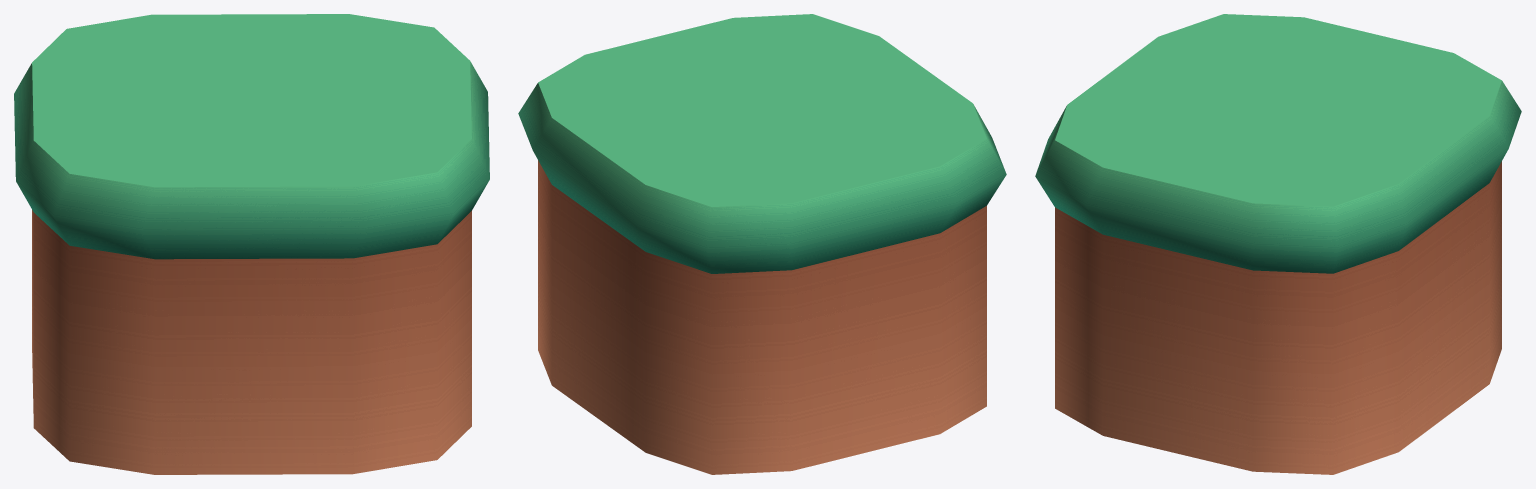
Rendered from block-grass.004_lev2.glb.
The picture shows the model from 3 angles, left to right: view 1: azimuth 30°, elevation 25°; view 2: azimuth 150°, elevation 25°; view 3: azimuth 270°, elevation 25°; orthographic projection. The views are drawn at different scales.
Parts seen in each view (by area): view 1: block-grass.004_lev2; view 2: block-grass.004_lev2; view 3: block-grass.004_lev2.
Boxes of the visible parts, x1,y1,x2,y2 form: block-grass.004_lev2: [14, 14, 489, 474]; block-grass.004_lev2: [518, 14, 1006, 474]; block-grass.004_lev2: [1035, 14, 1521, 474].
Size of the model in its own units: 7.32 by 4.37 by 7.18.
1 material, 1 textured.
